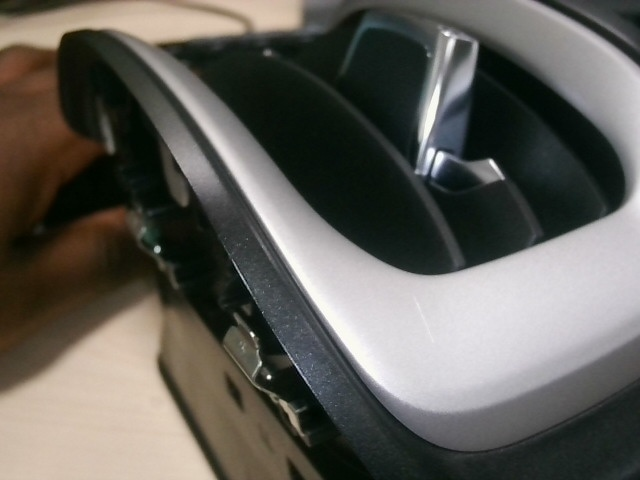NG: (407, 288, 440, 342), (219, 227, 261, 269)
